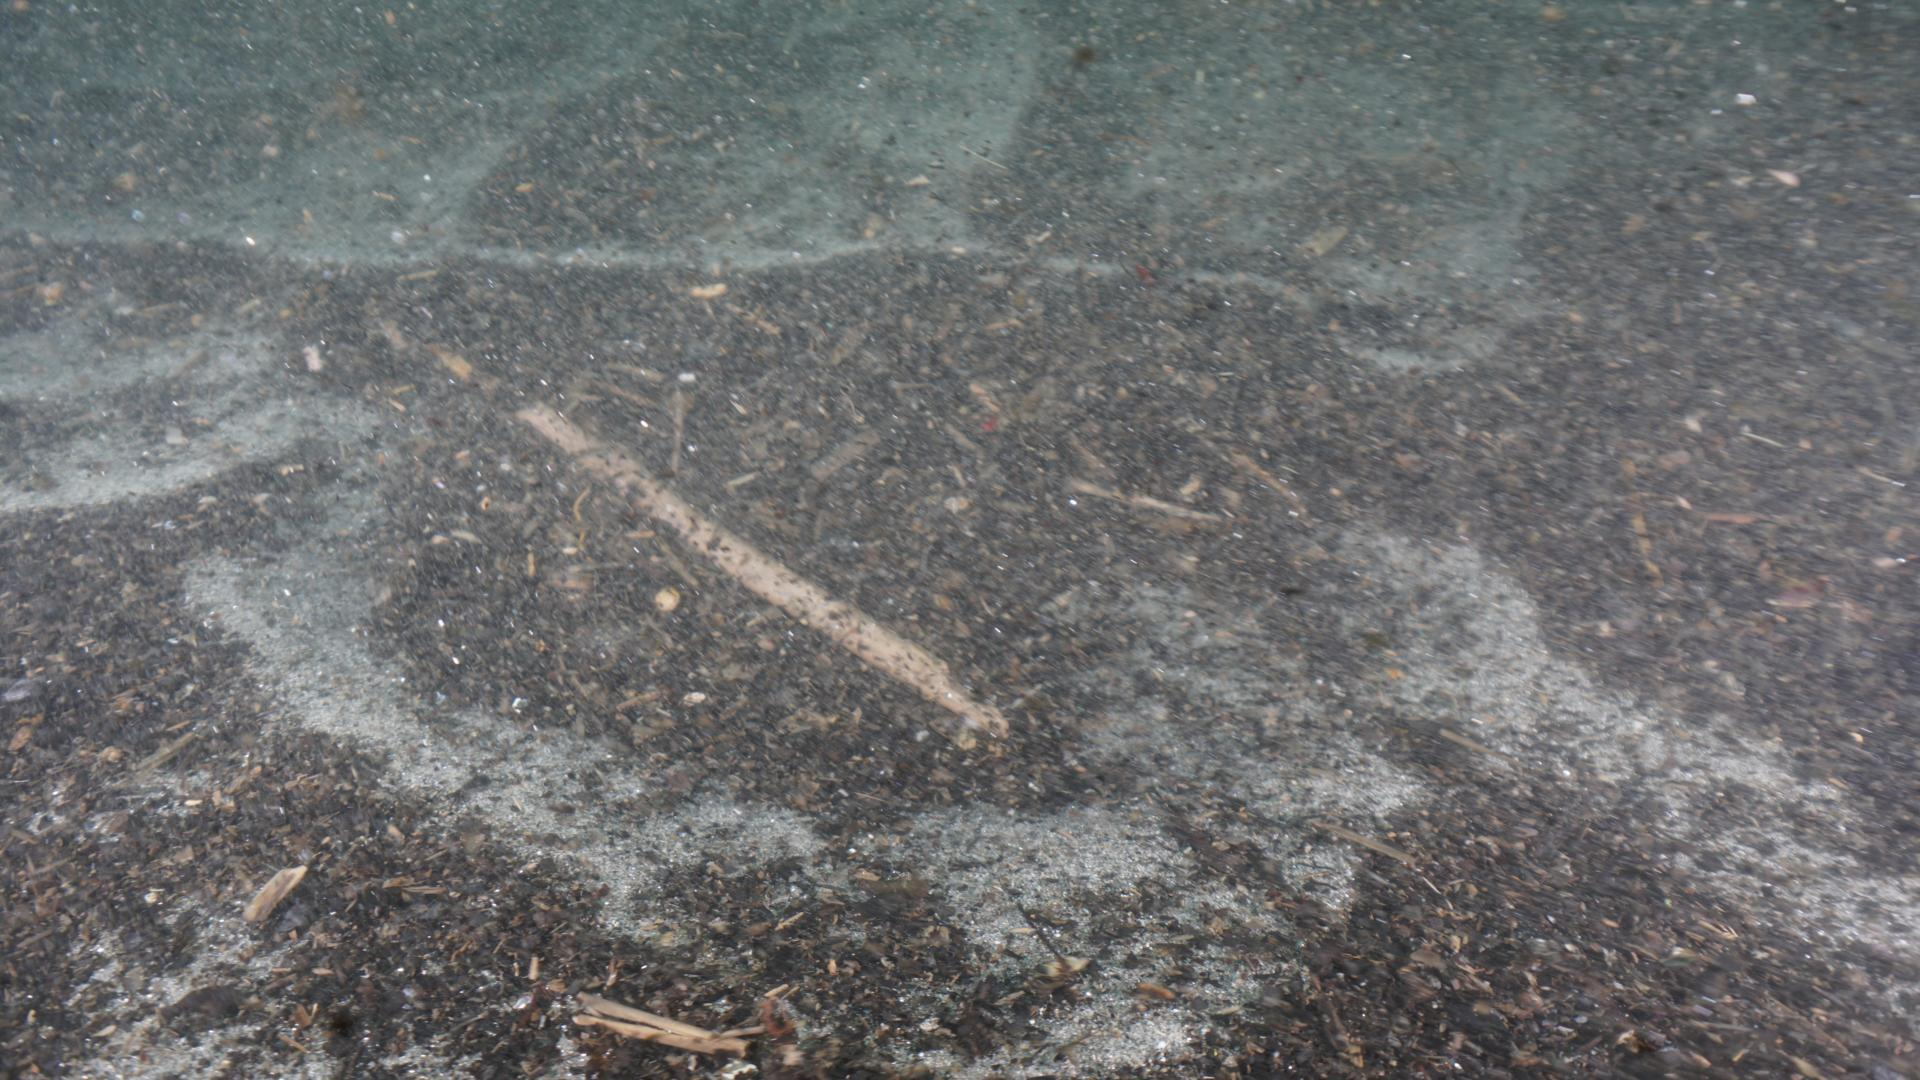wood: (438, 343, 1010, 732)
